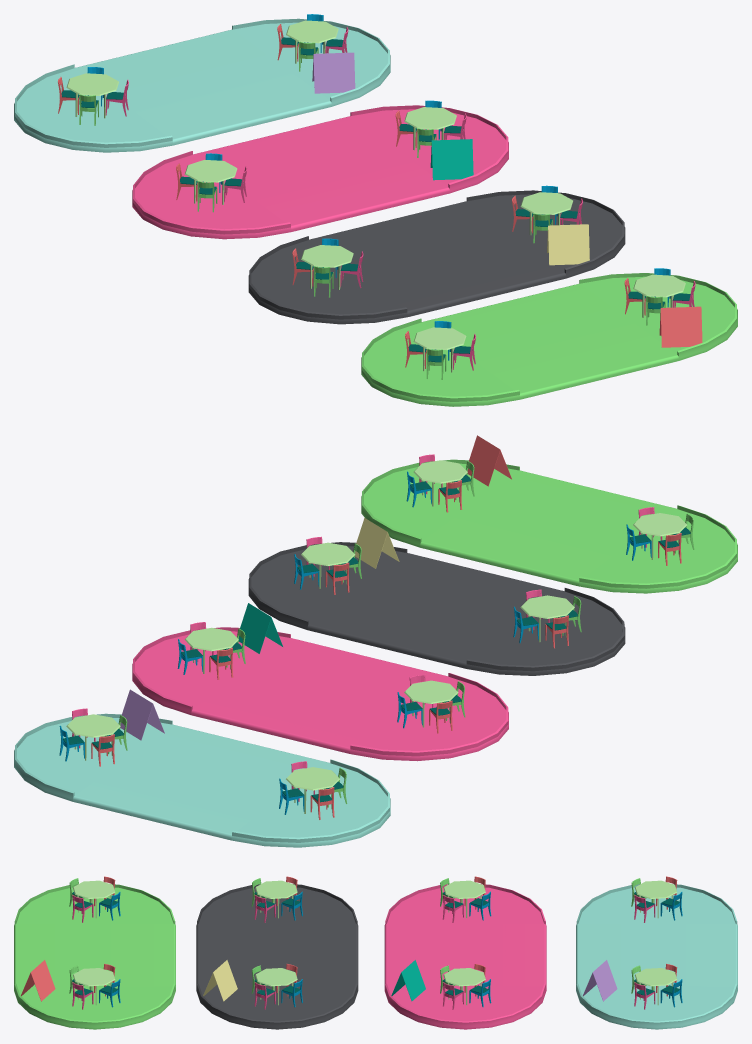
File: ServeArea_geo.fbx
The picture shows the model from 3 angles, top to bottom: view 1: azimuth 30°, elevation 25°; view 2: azimuth 150°, elevation 25°; view 3: azimuth 270°, elevation 25°; orthographic projection. The views are drawn at different scales.
Visible parts, largest first — view 1: ServeArea2, ServeArea1, ServeArea3, ServeArea, SingleArea3, SingleArea7, SingleArea5, SingleArea1, SingleArea4, SingleArea8, SingleArea2, SingleArea6 (+4 smaller); view 2: ServeArea2, ServeArea, ServeArea1, ServeArea3, SingleArea7, SingleArea3, SingleArea5, SingleArea1, SingleArea6, SingleArea2, SingleArea8, SingleArea4 (+4 smaller); view 3: ServeArea1, ServeArea2, ServeArea, ServeArea3, SingleArea3, SingleArea1, SingleArea4, SingleArea2, SingleArea5, SingleArea7, SingleArea6, SingleArea8 (+4 smaller).
Boxes of the visible parts, x1,y1,x2,y2 form: ServeArea2: [248, 190, 625, 324]; ServeArea1: [132, 105, 508, 239]; ServeArea3: [361, 273, 737, 406]; ServeArea: [14, 18, 390, 152]; SingleArea3: [176, 153, 246, 212]; SingleArea7: [405, 321, 475, 379]; SingleArea5: [292, 238, 363, 297]; SingleArea1: [58, 67, 128, 125]; SingleArea4: [395, 100, 466, 157]; SingleArea8: [624, 268, 695, 325]; SingleArea2: [277, 14, 348, 71]; SingleArea6: [512, 185, 582, 243]; ServeArea2: [248, 542, 625, 675]; ServeArea: [14, 713, 390, 847]; ServeArea1: [132, 627, 508, 761]; ServeArea3: [361, 459, 737, 593]; SingleArea7: [626, 507, 694, 565]; SingleArea3: [397, 674, 465, 733]; SingleArea5: [513, 589, 581, 648]; SingleArea1: [279, 761, 347, 819]; SingleArea6: [294, 536, 361, 594]; SingleArea2: [59, 708, 127, 766]; SingleArea8: [406, 454, 474, 512]; SingleArea4: [177, 622, 245, 679]; ServeArea1: [384, 884, 546, 1029]; ServeArea2: [196, 884, 358, 1029]; ServeArea: [576, 884, 737, 1029]; ServeArea3: [14, 884, 175, 1029]; SingleArea3: [440, 876, 491, 922]; SingleArea1: [631, 876, 682, 922]; SingleArea4: [440, 964, 491, 1009]; SingleArea2: [631, 963, 682, 1009]; SingleArea5: [251, 876, 302, 922]; SingleArea7: [69, 876, 120, 922]; SingleArea6: [251, 964, 302, 1009]; SingleArea8: [69, 963, 120, 1009].
Bounding box in the file's own units: 169 × 17.6 × 368.
Materials: 1 (1 with a texture image).
